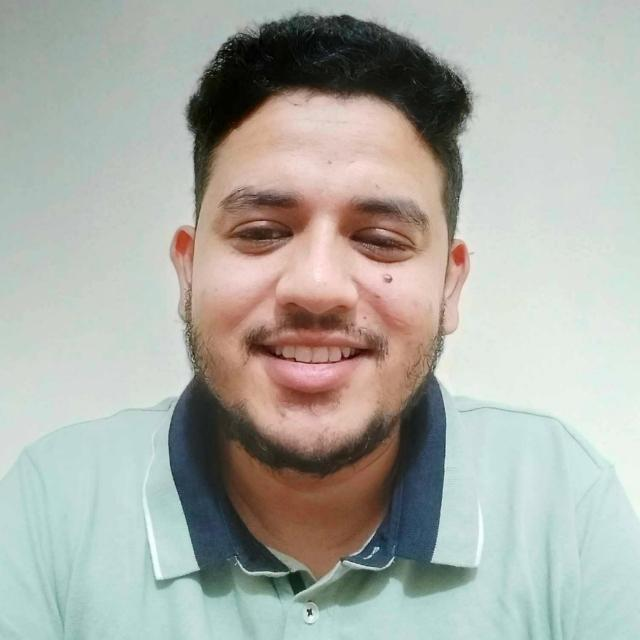Happy: (138, 80, 509, 548)
